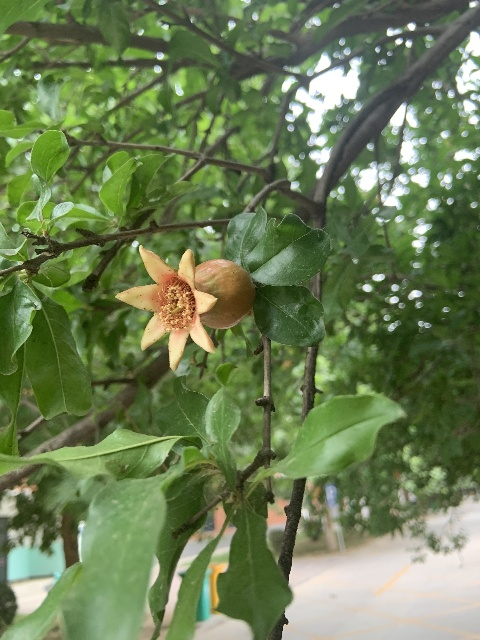early-fruit: (115, 244, 254, 369)
